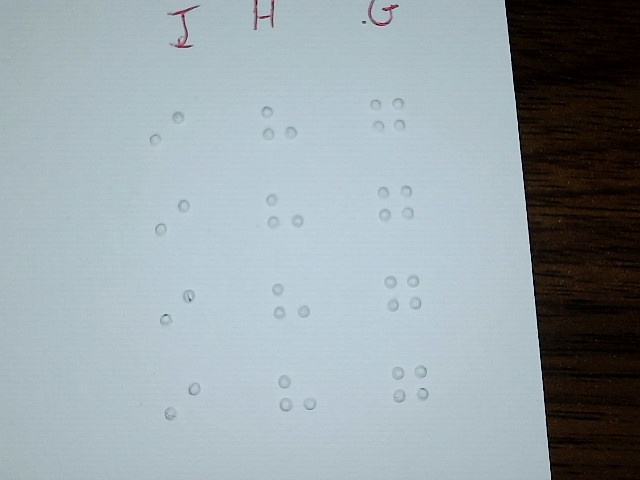G: (367, 87, 407, 155), (375, 173, 415, 241), (382, 262, 422, 330), (390, 353, 430, 421)
H: (258, 94, 298, 162), (265, 183, 305, 251), (271, 272, 311, 340), (277, 363, 317, 431)
I: (147, 100, 187, 168), (153, 188, 193, 256), (163, 370, 203, 438)
